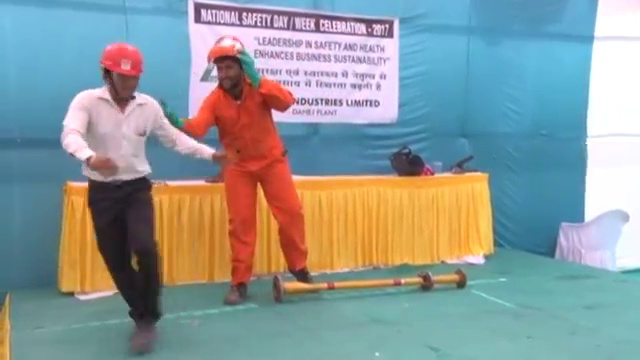helmet: (98, 39, 144, 75), (207, 34, 245, 64)
helmet_on: (97, 39, 145, 101), (206, 34, 248, 93)
person: (62, 38, 217, 352), (179, 34, 317, 294)
